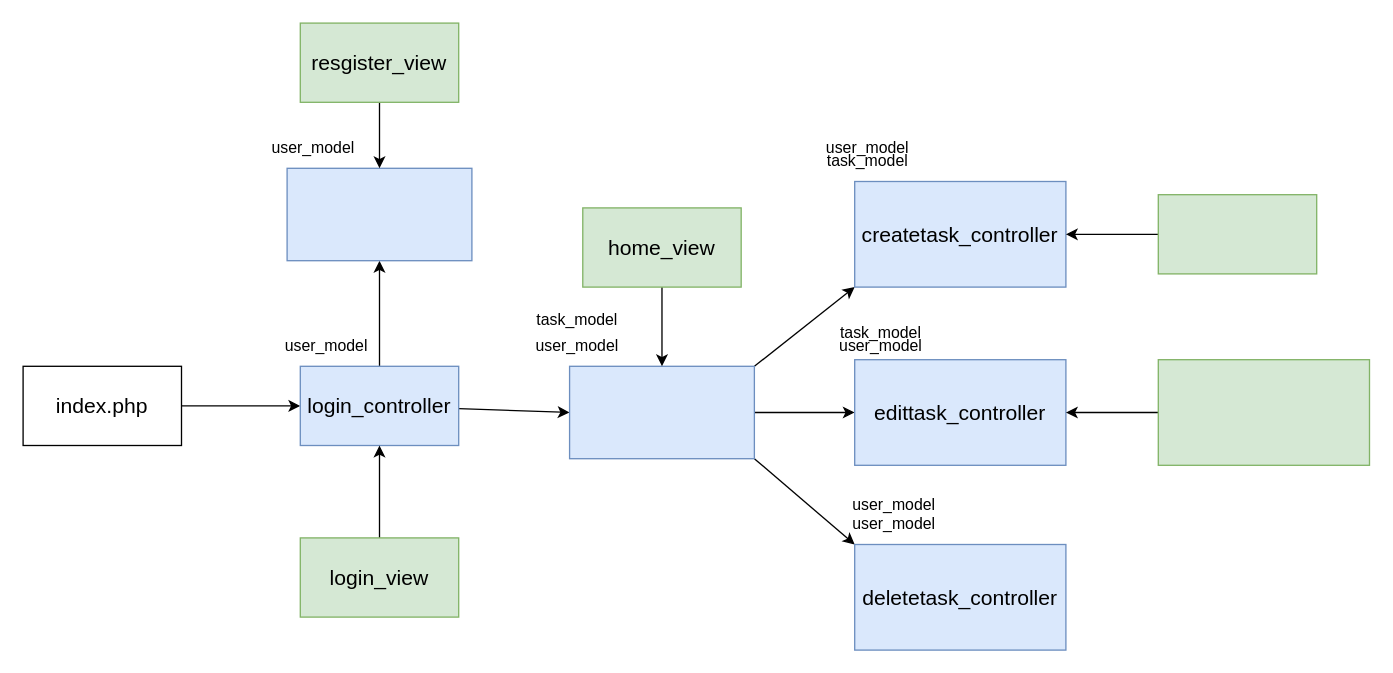
The diagram is 1393 pixels wide and 673 high, and some of its shapes have lost their labels. Here are the shapes that lost their labels. From the top down, the centre of each, then its label:
pixel 379 214: register_controller
pixel 1237 233: createtask_view
pixel 661 412: home_controller
pixel 1263 411: edittask_view
